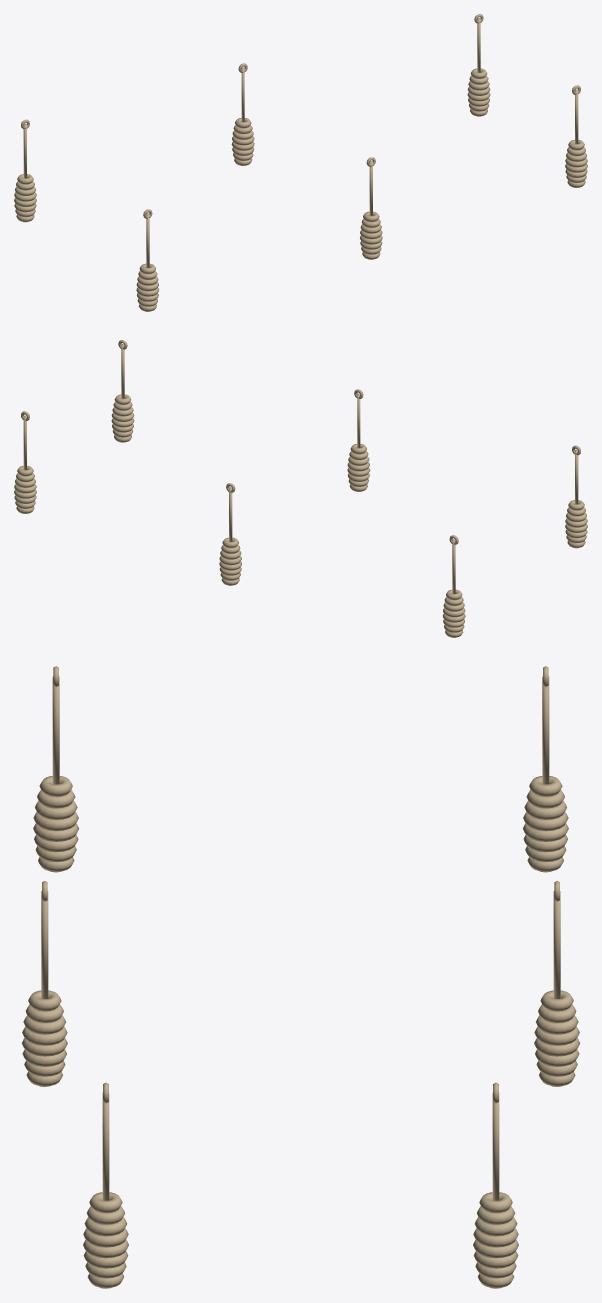
File: fenders.glb
The picture shows the model from 3 angles, top to bottom: view 1: azimuth 30°, elevation 25°; view 2: azimuth 150°, elevation 25°; view 3: azimuth 270°, elevation 25°; orthographic projection. The views are drawn at different scales.
Parts seen in each view (by area): view 1: Fenders; view 2: Fenders; view 3: Fenders.
Boxes of the visible parts, <box> form: Fenders: <box>14,14,587,311</box>; Fenders: <box>14,340,587,637</box>; Fenders: <box>21,666,580,1288</box>.
Bounding box in the file's own units: 4.14 × 0.9269 × 2.17.
